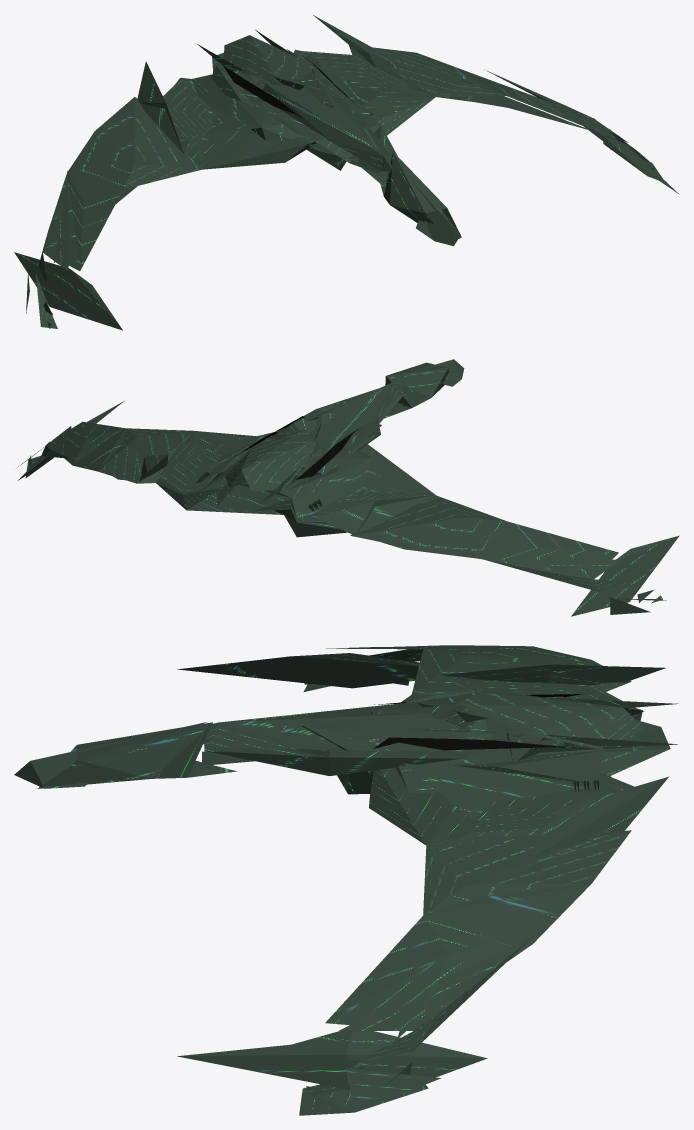
3 views of the same model, one above another, from view 1: azimuth 30°, elevation 25°; view 2: azimuth 150°, elevation 25°; view 3: azimuth 270°, elevation 25° (orthographic). The views are drawn at different scales.
Visible parts, largest first — view 1: Mset.003_Material_0, Mset.002_Material.001_0; view 2: Mset.003_Material_0, Mset.002_Material.001_0; view 3: Mset.003_Material_0, Mset.002_Material.001_0.
Part boxes in pixels (left/top/right/bottom): Mset.003_Material_0: left=14, top=15, right=679, bottom=330; Mset.002_Material.001_0: left=223, top=54, right=358, bottom=119; Mset.003_Material_0: left=17, top=359, right=679, bottom=616; Mset.002_Material.001_0: left=228, top=416, right=358, bottom=479; Mset.003_Material_0: left=14, top=645, right=678, bottom=1115; Mset.002_Material.001_0: left=373, top=694, right=582, bottom=750.
Bounding box in the file's own units: 42.64 × 9.32 × 27.56.
